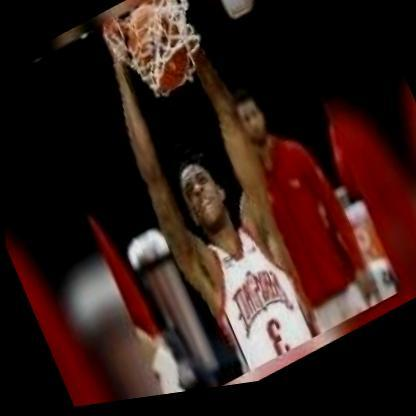basketball: (109, 0, 202, 115)
